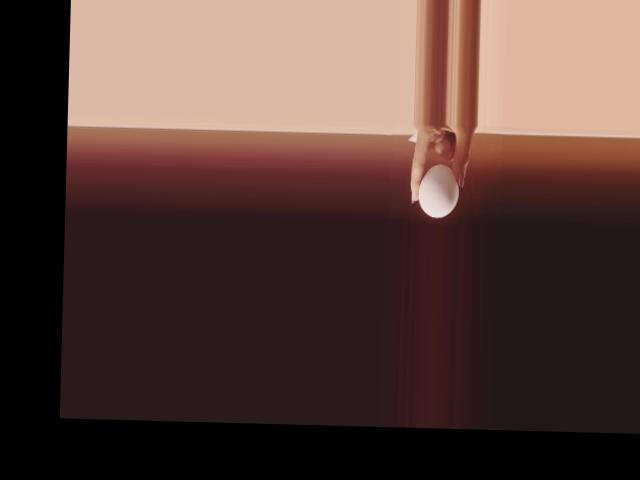egg: (418, 162, 460, 217)
